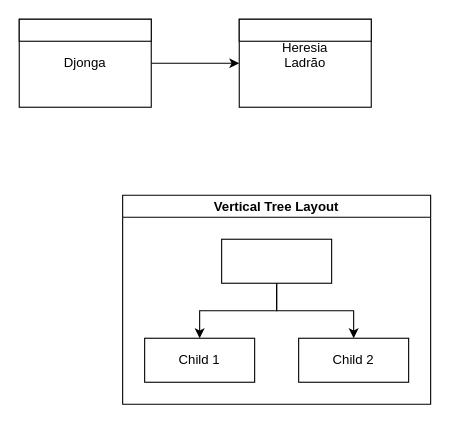
This 450x424 diagram has some shape labels left out. The centre of each missing label's shape, as x and y in pixels:
Album: the point at 304,29
Artista id: the point at 84,29
Root: the point at 276,260
